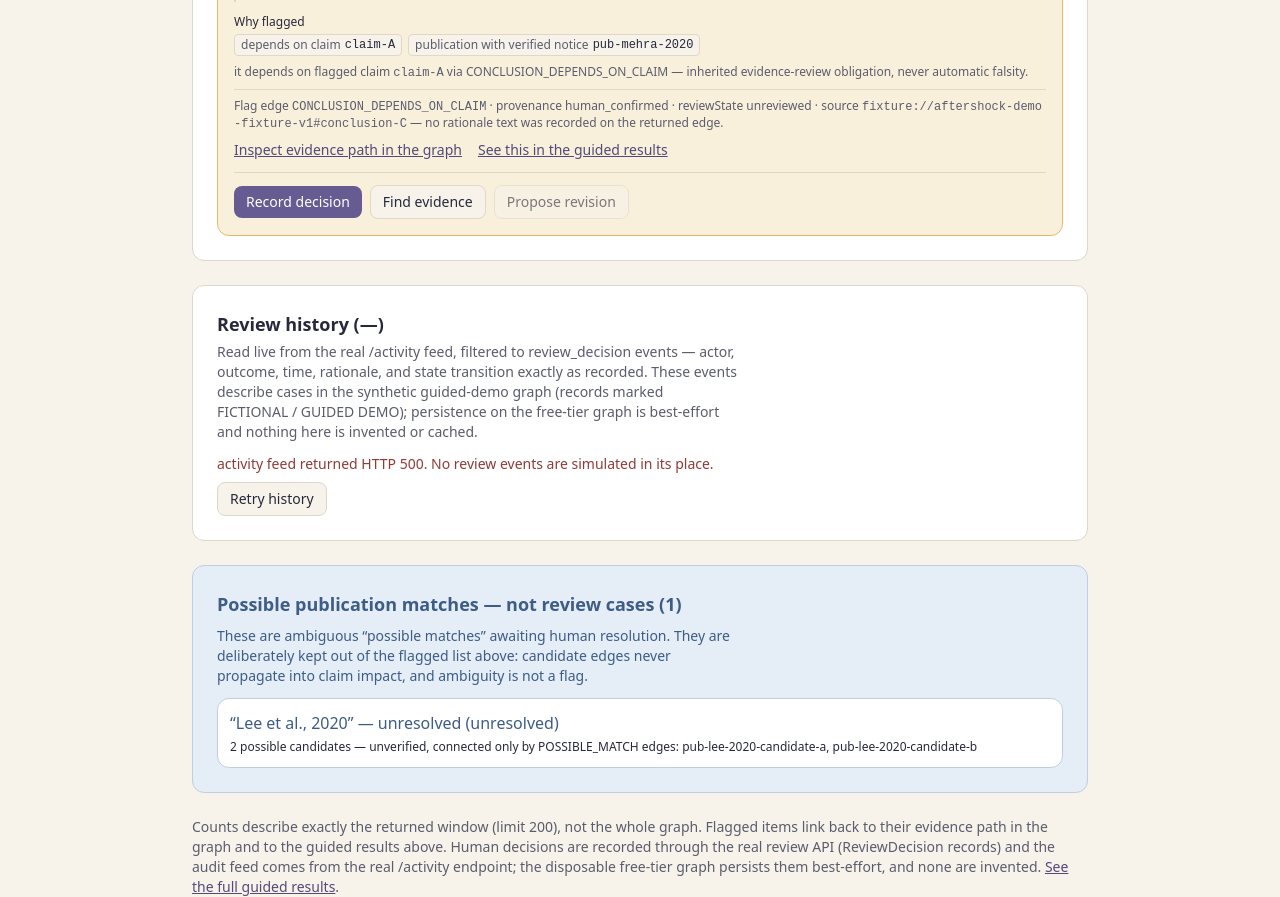
Test case: ReviewQueuePage — Review history honest states (real /activity feed) › history failure shows the typed error + retry that refetches the feed
The image size is (1280, 897).
(page scrolled)
Expected: the text with test id "review-history-detail" shows "HTTP 500", [217,454,428,473]
What coordinates should you click on to do the following:
click the button with test id "review-history-retry"
I would click on:
 (272, 499)
Its box is [217,482,327,516].
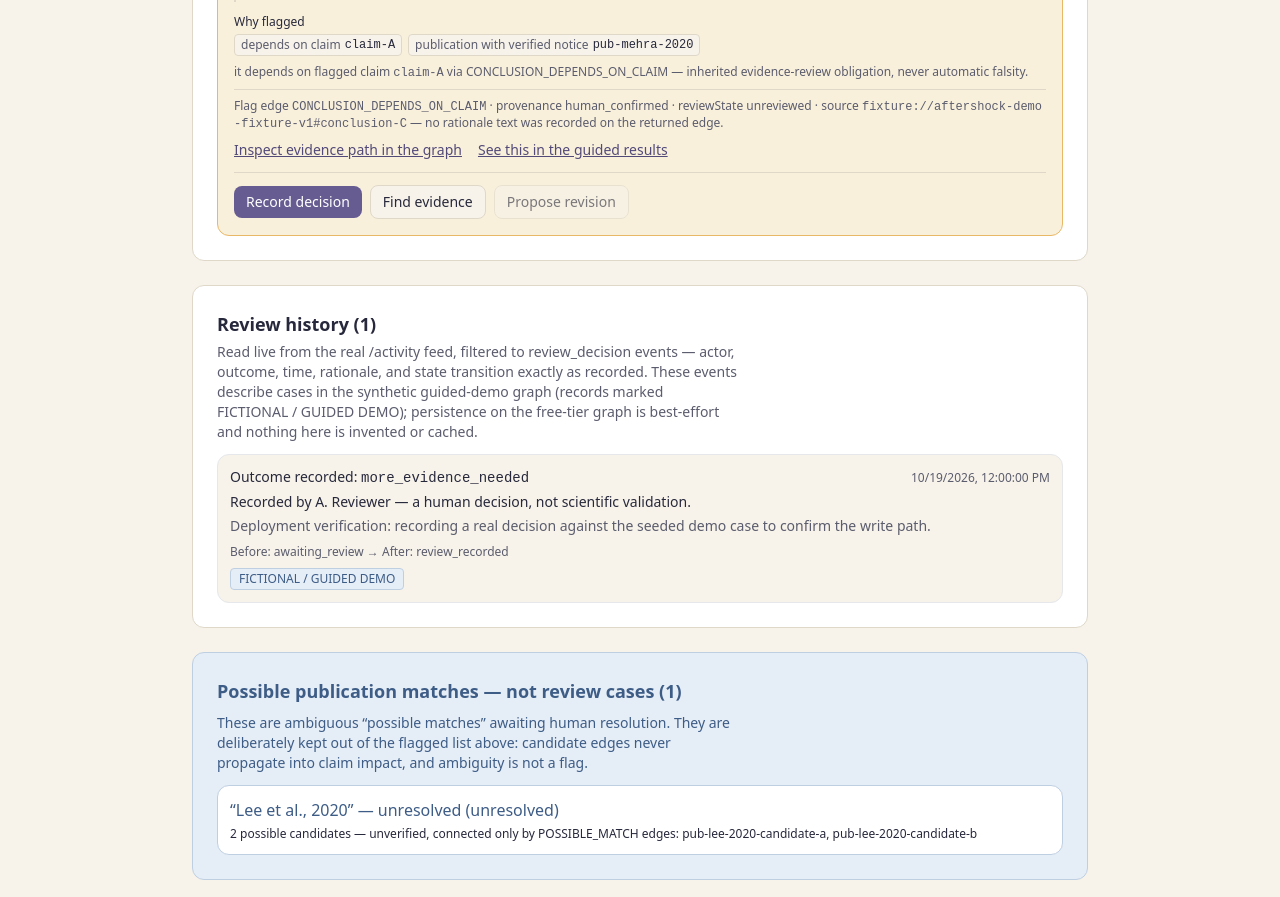
Expected: the element with test id "review-history-entry-review-evt-9" is shown, [217,454,1063,603]
